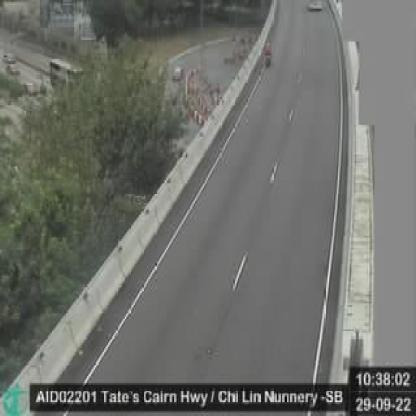Bus: (44, 56, 95, 100)
Car: (170, 59, 184, 87), (4, 61, 21, 76)
